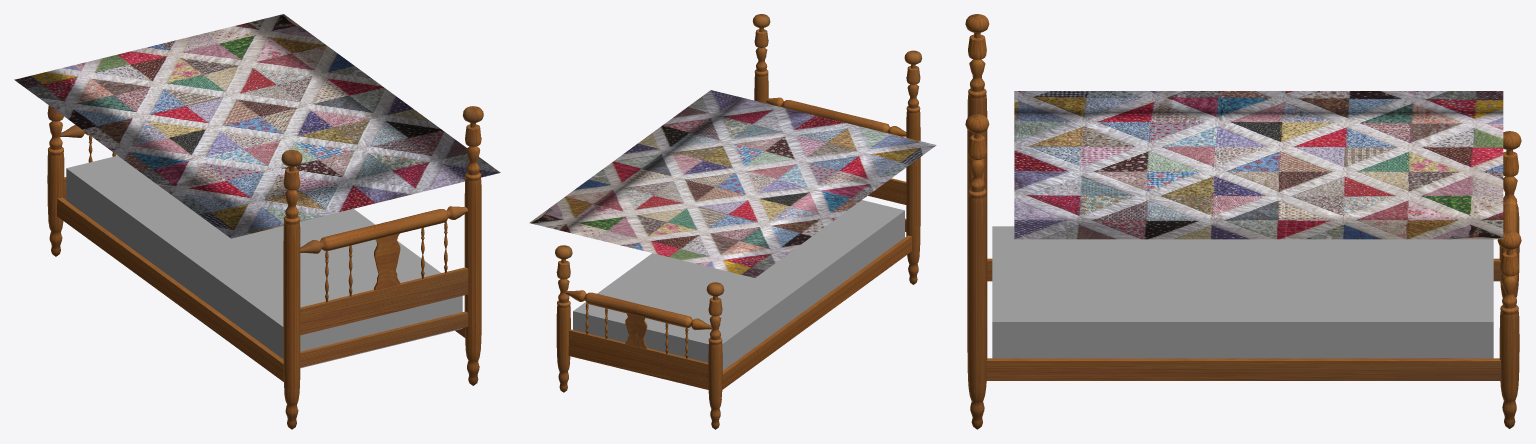
The model's file is bed_with_quilt.fbx.
3 views of the same model, side by side, from view 1: azimuth 30°, elevation 25°; view 2: azimuth 150°, elevation 25°; view 3: azimuth 270°, elevation 25° (orthographic). The views are drawn at different scales.
Parts seen in each view (by area): view 1: pPlane1, pCube8, pCube1, pCube5, BR_leg, BL_leg, pCube4, nurbsToPoly4, FR_leg, pCube7; view 2: pPlane1, pCube8, pCube3, pCube1, BR_leg, FR_leg, FL_leg, nurbsToPoly3, nurbsToPoly4, BL_leg, pCube5, pCube6; view 3: pPlane1, pCube8, pCube2, BL_leg, FL_leg, BR_leg, FR_leg, nurbsToPoly3.
Part boxes in pixels (x1,y1,x2,y2): pPlane1: (14, 14, 500, 238); pCube8: (66, 155, 462, 368); pCube1: (57, 197, 283, 381); pCube5: (300, 267, 468, 335); BR_leg: (281, 150, 302, 429); BL_leg: (462, 106, 483, 385); pCube4: (300, 311, 468, 367); nurbsToPoly4: (300, 206, 468, 253); FR_leg: (47, 105, 64, 256); pCube7: (374, 233, 400, 290); pPlane1: (529, 90, 936, 277); pCube8: (573, 200, 904, 370); pCube3: (568, 329, 708, 389); pCube1: (722, 235, 911, 389); BR_leg: (904, 50, 922, 284); FR_leg: (706, 282, 724, 429); FL_leg: (555, 245, 572, 392); nurbsToPoly3: (565, 290, 711, 329); nurbsToPoly4: (766, 97, 906, 136); BL_leg: (752, 14, 770, 103); pCube5: (868, 178, 906, 204); pCube6: (625, 313, 647, 348); pPlane1: (1014, 91, 1503, 239); pCube8: (992, 226, 1493, 358); pCube2: (986, 358, 1501, 380); BL_leg: (965, 114, 989, 429); FL_leg: (1497, 230, 1521, 428); BR_leg: (965, 14, 989, 217); FR_leg: (1499, 131, 1521, 297); nurbsToPoly3: (1501, 194, 1517, 285).
Size of the model in its own units: 7.16 by 7.07 by 11.34.
3 materials, 2 textured.
